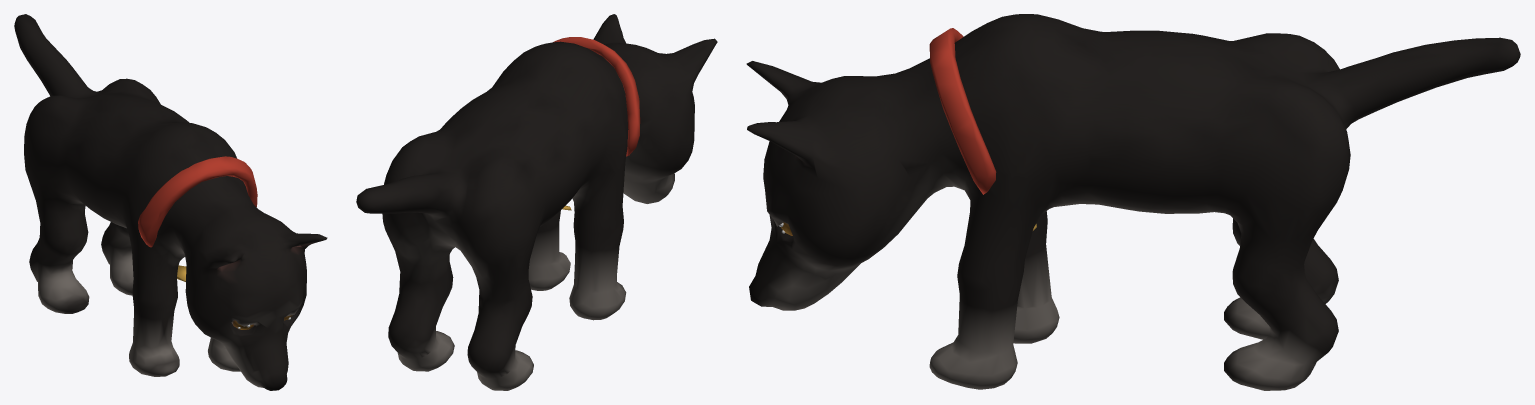
Rendered from cho_muc_ngui.glb.
3 renders of one model, left to right at view 1: azimuth 30°, elevation 25°; view 2: azimuth 150°, elevation 25°; view 3: azimuth 270°, elevation 25°, orthographic. The views are drawn at different scales.
Visible parts, largest first — view 1: cho_muc_ngui; view 2: cho_muc_ngui; view 3: cho_muc_ngui.
Part boxes in pixels (bbox=[...]): cho_muc_ngui: bbox=[14, 14, 327, 390]; cho_muc_ngui: bbox=[356, 14, 717, 390]; cho_muc_ngui: bbox=[746, 14, 1520, 390].
Size of the model in its own units: 0.3538 by 0.6208 by 1.29.
